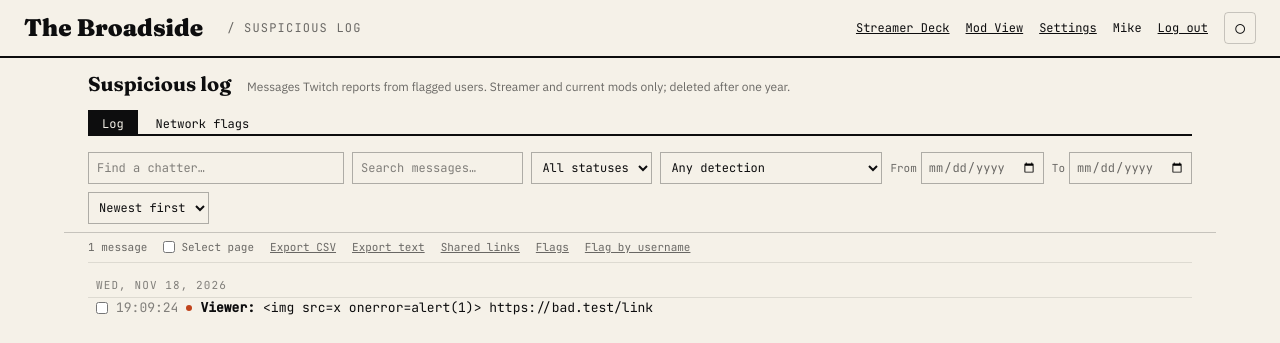
SuspiciousLogView › lets mods select messages, but not delete them
Click the checkbox named "select message from viewer": (102, 308) [96,302,108,314]
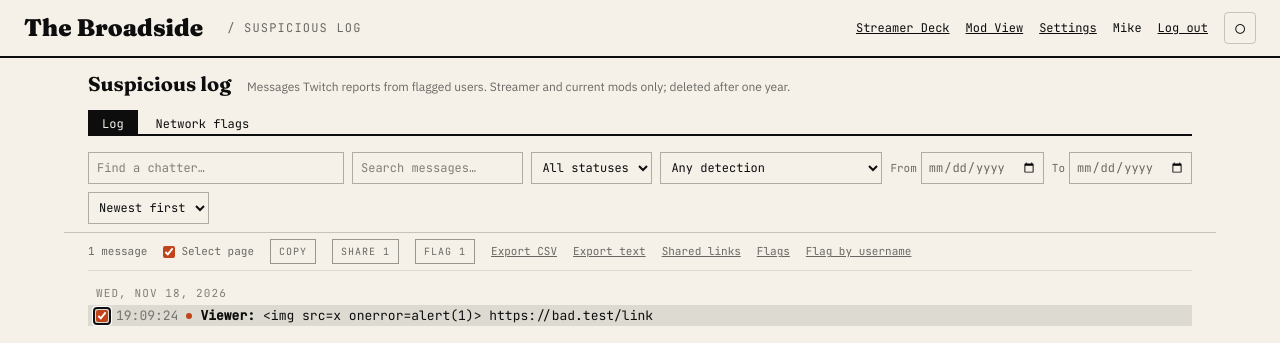
Now the button "Share 1" is shown, box [332,239,399,264]
